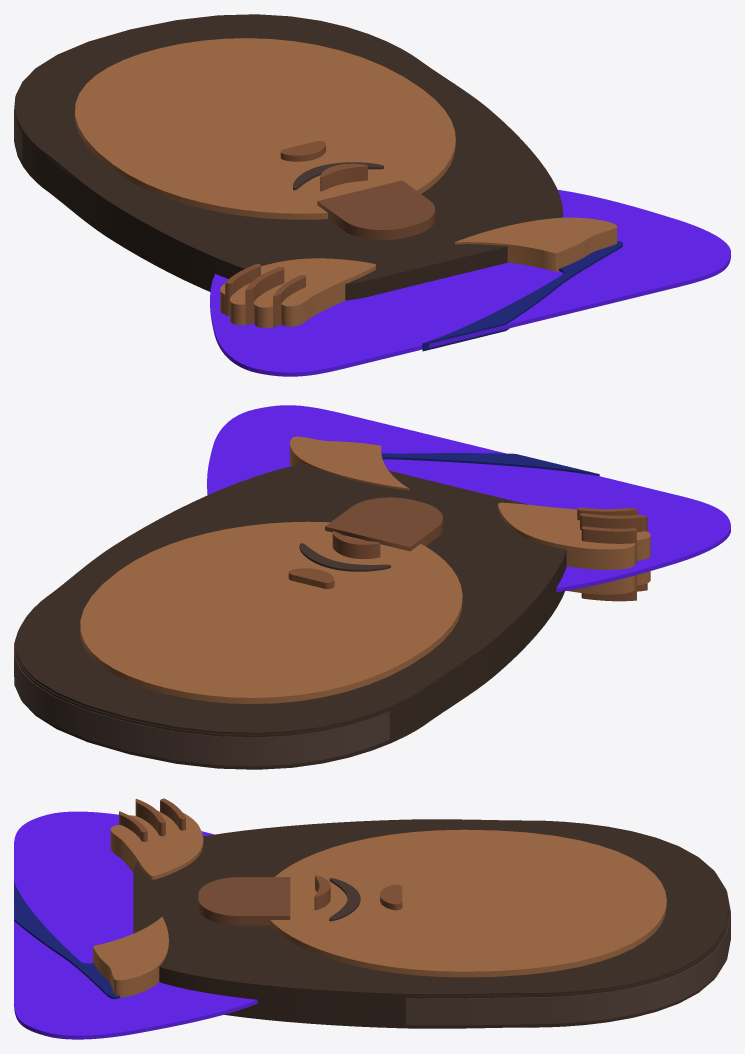
The model's file is emoji_u1f64e_1f3fe_200d_2640.glb.
3 renders of one model, top to bottom at view 1: azimuth 30°, elevation 25°; view 2: azimuth 150°, elevation 25°; view 3: azimuth 270°, elevation 25°, orthographic. The views are drawn at different scales.
Visible parts, largest first — view 1: emoji_u1f64e_1f3fe_200d_2640; view 2: emoji_u1f64e_1f3fe_200d_2640; view 3: emoji_u1f64e_1f3fe_200d_2640.
Part boxes in pixels (<box>): emoji_u1f64e_1f3fe_200d_2640: <box>14,14,730,376</box>; emoji_u1f64e_1f3fe_200d_2640: <box>14,405,730,769</box>; emoji_u1f64e_1f3fe_200d_2640: <box>14,798,730,1039</box>.
Bounding box in the file's own units: 0.025 × 0.0038 × 0.0338.
